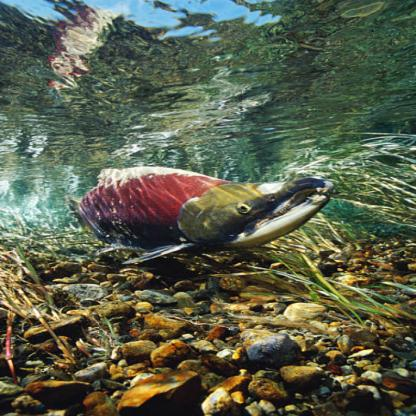sockeye: (59, 163, 334, 262)
